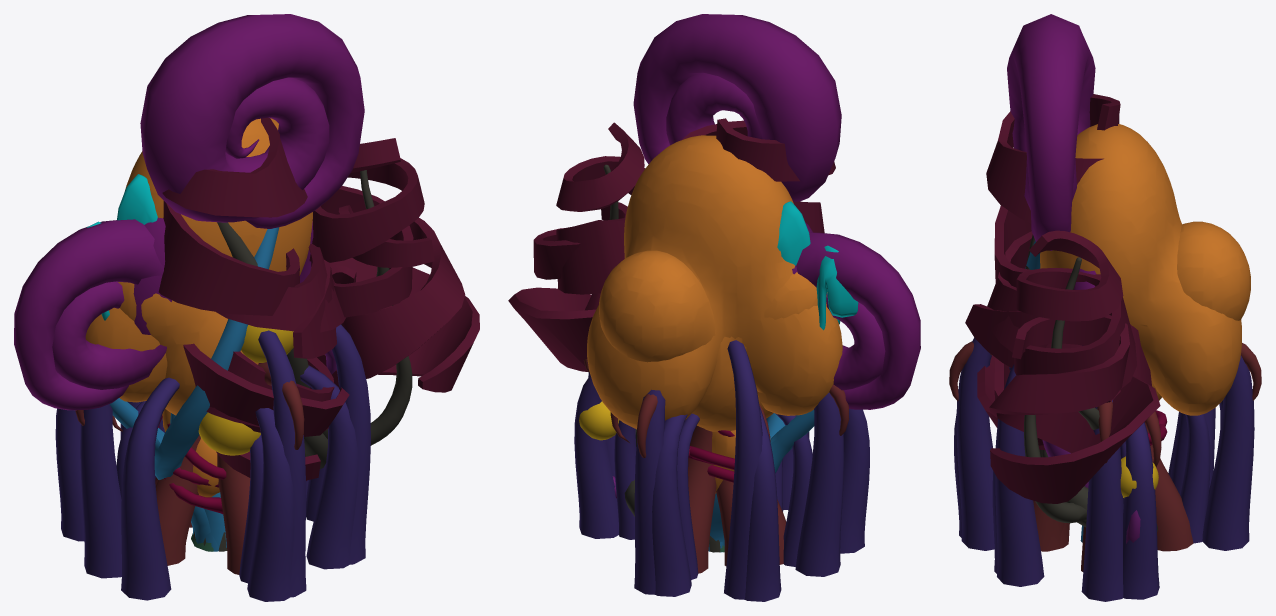
File: tree.glb
The picture shows the model from 3 angles, left to right: view 1: azimuth 30°, elevation 25°; view 2: azimuth 150°, elevation 25°; view 3: azimuth 270°, elevation 25°; orthographic projection. The views are drawn at different scales.
Parts seen in each view (by area): view 1: Tree_Swirl_1, Tree_Blob_2, Tree_Spiral_2, Tree_Spiral_3, Tree_Blob_1, Tree_Spikes_1, Tree_Spiral_1, Tree_Blob_3, Tree_Swirl_2, Tree_Lava_3, Tree_Light_2, Tree_Floating_3 (+1 smaller); view 2: Tree_Blob_1, Tree_Swirl_1, Tree_Blob_2, Tree_Spiral_2, Tree_Blob_3, Tree_Spiral_3, Tree_Spikes_1, Tree_Floating_3, Tree_Lava_2, Tree_Spikes_2, Tree_Light_1; view 3: Tree_Blob_1, Tree_Spiral_3, Tree_Spiral_2, Tree_Swirl_1, Tree_Blob_2, Tree_Spikes_1, Tree_Spiral_1, Tree_Blob_3, Tree_Light_1, Tree_Spikes_2.
Part boxes in pixels (x1=…): Tree_Swirl_1: x1=14, y1=14, x2=364, y2=551; Tree_Blob_2: x1=55, y1=282, x2=358, y2=601; Tree_Spiral_2: x1=158, y1=117, x2=424, y2=550; Tree_Spiral_3: x1=183, y1=205, x2=479, y2=551; Tree_Blob_1: x1=80, y1=118, x2=370, y2=597; Tree_Spikes_1: x1=75, y1=362, x2=304, y2=574; Tree_Spiral_1: x1=193, y1=244, x2=346, y2=539; Tree_Blob_3: x1=116, y1=401, x2=263, y2=583; Tree_Swirl_2: x1=133, y1=217, x2=313, y2=551; Tree_Lava_3: x1=164, y1=423, x2=226, y2=514; Tree_Light_2: x1=198, y1=412, x2=260, y2=455; Tree_Floating_3: x1=86, y1=174, x2=213, y2=551; Tree_Blob_1: x1=587, y1=135, x2=844, y2=599; Tree_Swirl_1: x1=633, y1=14, x2=920, y2=551; Tree_Blob_2: x1=574, y1=250, x2=869, y2=601; Tree_Spiral_2: x1=556, y1=118, x2=835, y2=552; Tree_Blob_3: x1=614, y1=413, x2=812, y2=579; Tree_Spiral_3: x1=508, y1=202, x2=637, y2=446; Tree_Spikes_1: x1=583, y1=359, x2=849, y2=573; Tree_Floating_3: x1=720, y1=201, x2=858, y2=552; Tree_Lava_2: x1=689, y1=430, x2=735, y2=493; Tree_Spikes_2: x1=610, y1=404, x2=770, y2=565; Tree_Light_1: x1=579, y1=401, x2=619, y2=498; Tree_Blob_1: x1=956, y1=124, x2=1254, y2=601; Tree_Spiral_3: x1=965, y1=304, x2=1160, y2=523; Tree_Spiral_2: x1=986, y1=94, x2=1136, y2=430; Tree_Swirl_1: x1=1007, y1=14, x2=1095, y2=542; Tree_Blob_2: x1=954, y1=221, x2=1250, y2=599; Tree_Spikes_1: x1=949, y1=341, x2=1261, y2=571; Tree_Spiral_1: x1=987, y1=231, x2=1157, y2=531; Tree_Blob_3: x1=1120, y1=414, x2=1210, y2=543; Tree_Light_1: x1=1042, y1=440, x2=1158, y2=543; Tree_Spikes_2: x1=1059, y1=411, x2=1161, y2=548.
Size of what is drawn, in the model's own units: 6.28 by 7.36 by 4.05.
Materials: 1 (1 with a texture image).
